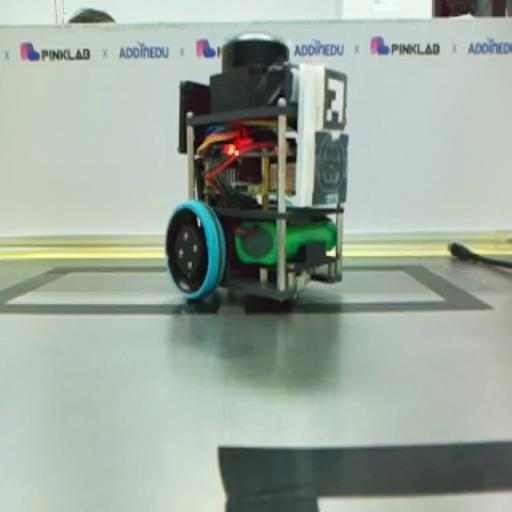pinky_63: (164, 33, 349, 302)
